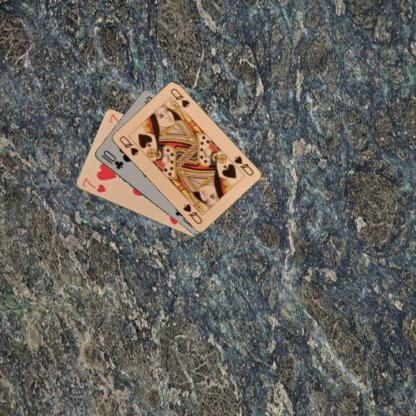10c: (98, 148, 124, 170)
7h: (79, 175, 107, 194)
Qs: (231, 153, 255, 177), (117, 133, 140, 157)
